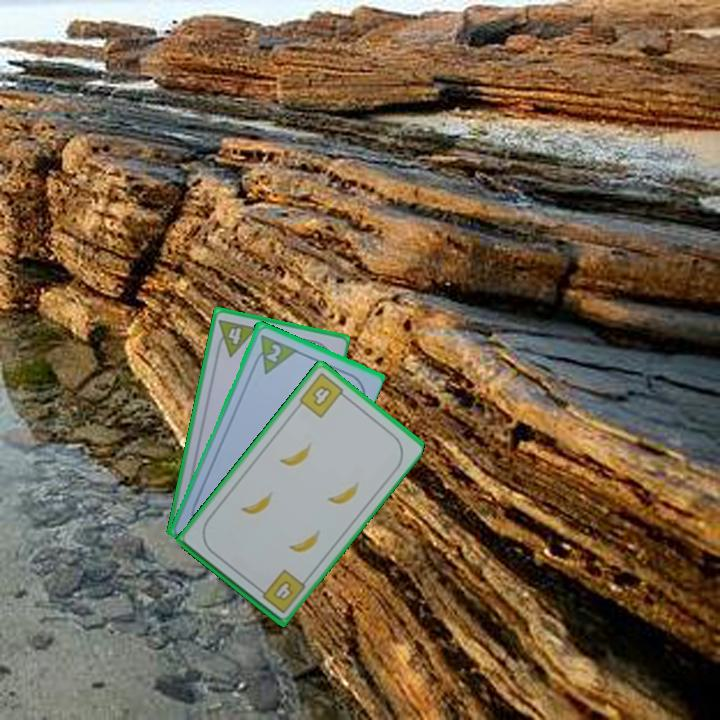2p: (248, 330, 298, 377)
4b: (295, 369, 351, 421), (253, 565, 309, 616)
4p: (212, 316, 260, 359)
